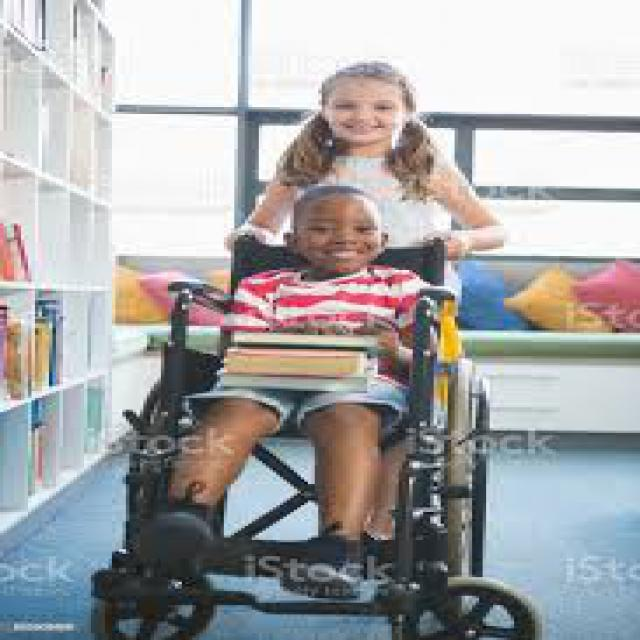wheelchairs: (88, 217, 542, 638)
